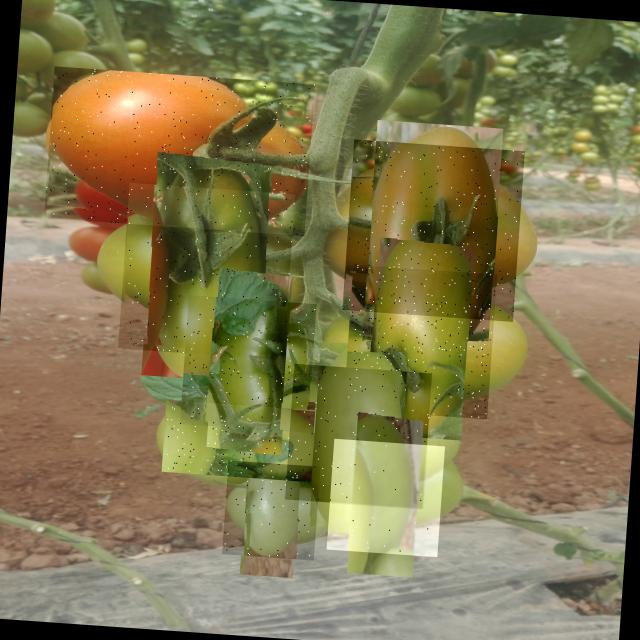Unripe Tomato: (43, 66, 314, 236), (342, 139, 524, 321), (118, 182, 294, 360), (342, 264, 497, 419), (284, 364, 432, 508), (180, 294, 316, 432), (326, 438, 444, 556), (161, 399, 316, 482), (222, 460, 320, 560)
